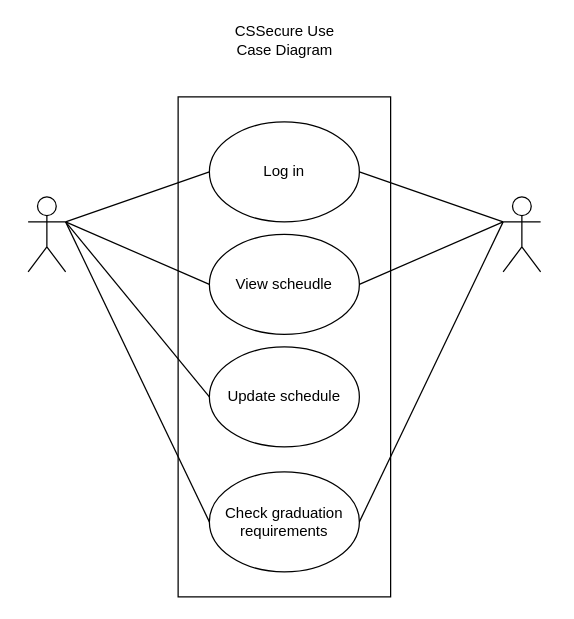
This 574x619 diagram has some shape labels left out. Each missing label, with the centre of its shape:
Counsler: the point at 521,234
Student: the point at 46,234
